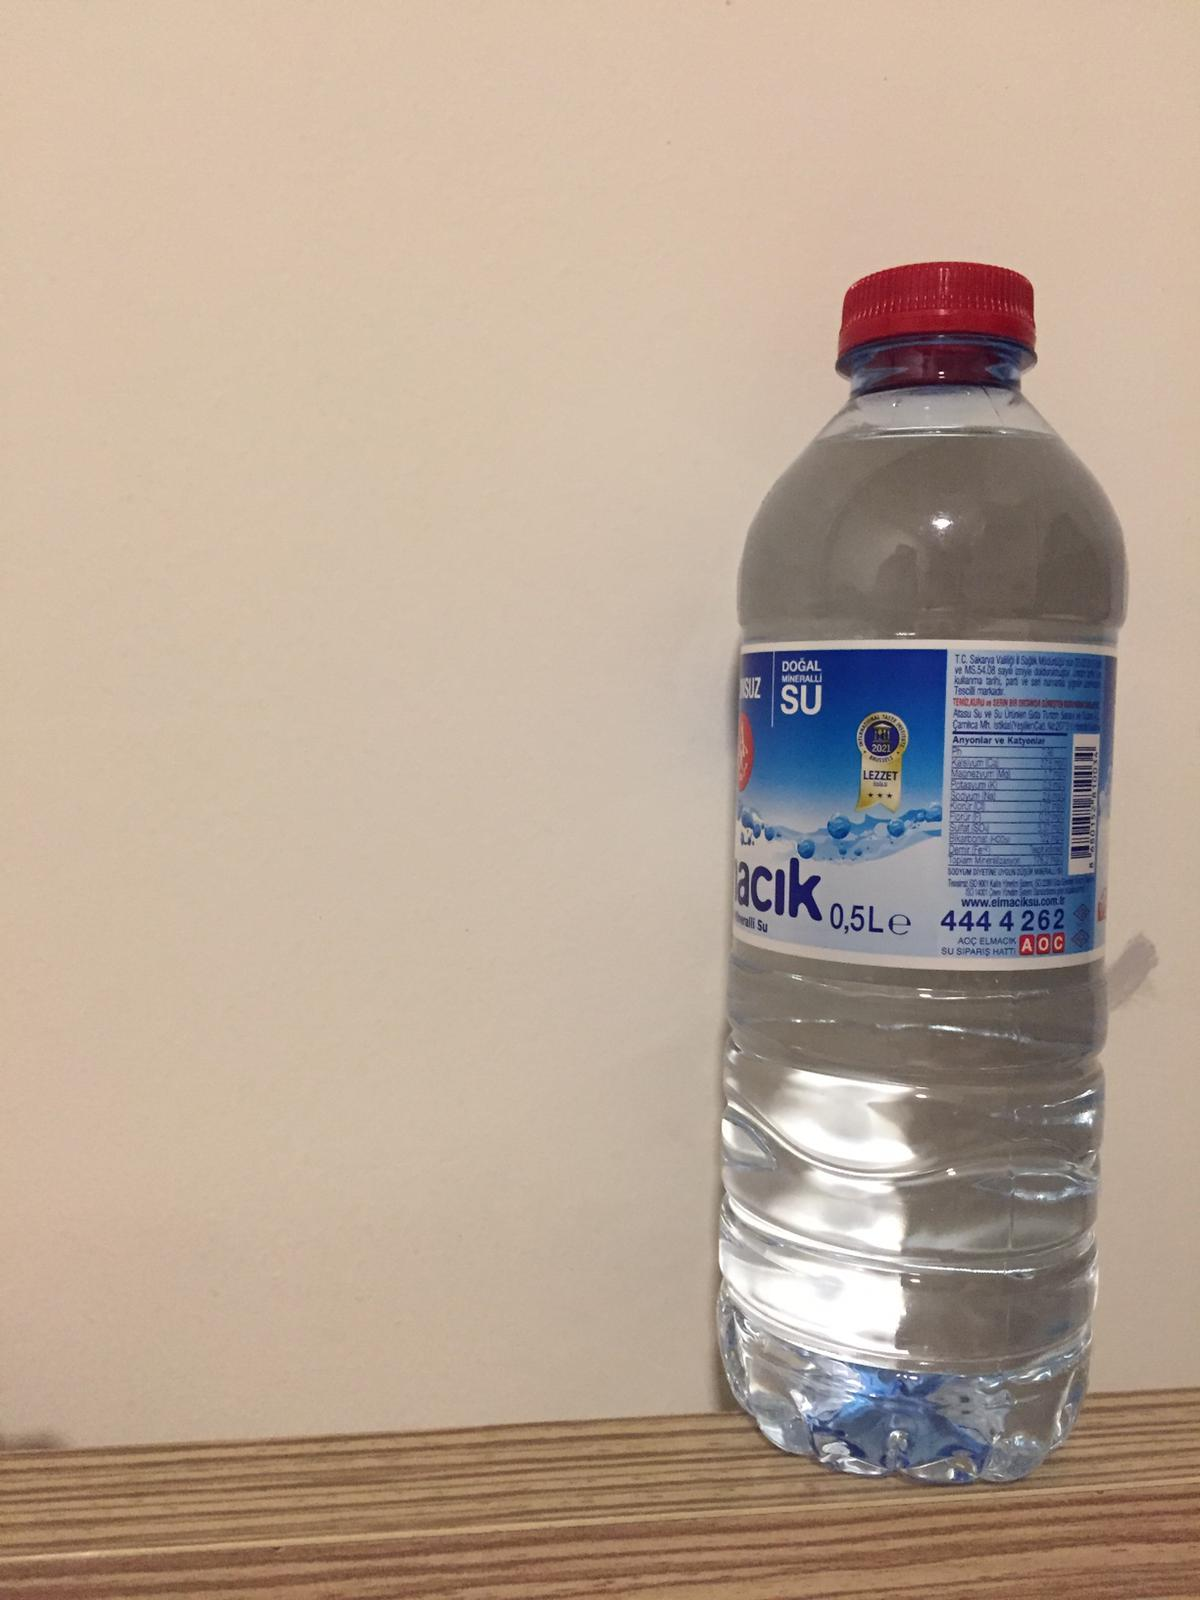bottle: (711, 251, 1119, 1489)
